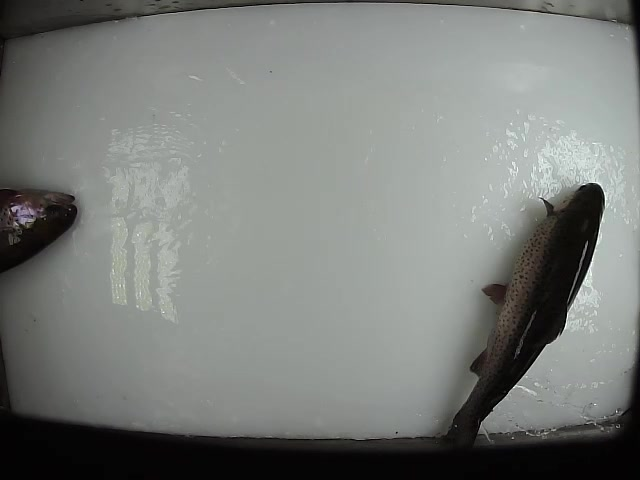fish: (432, 180, 608, 467), (1, 187, 80, 274)
